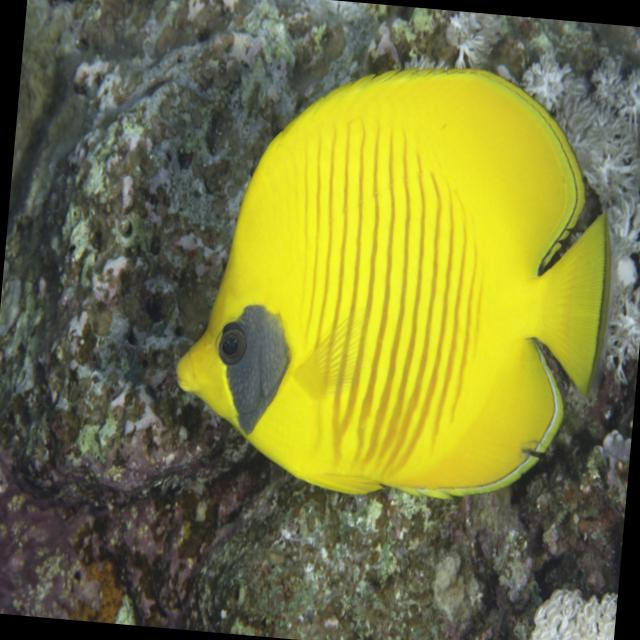ButterflyFish: (174, 49, 623, 514)
